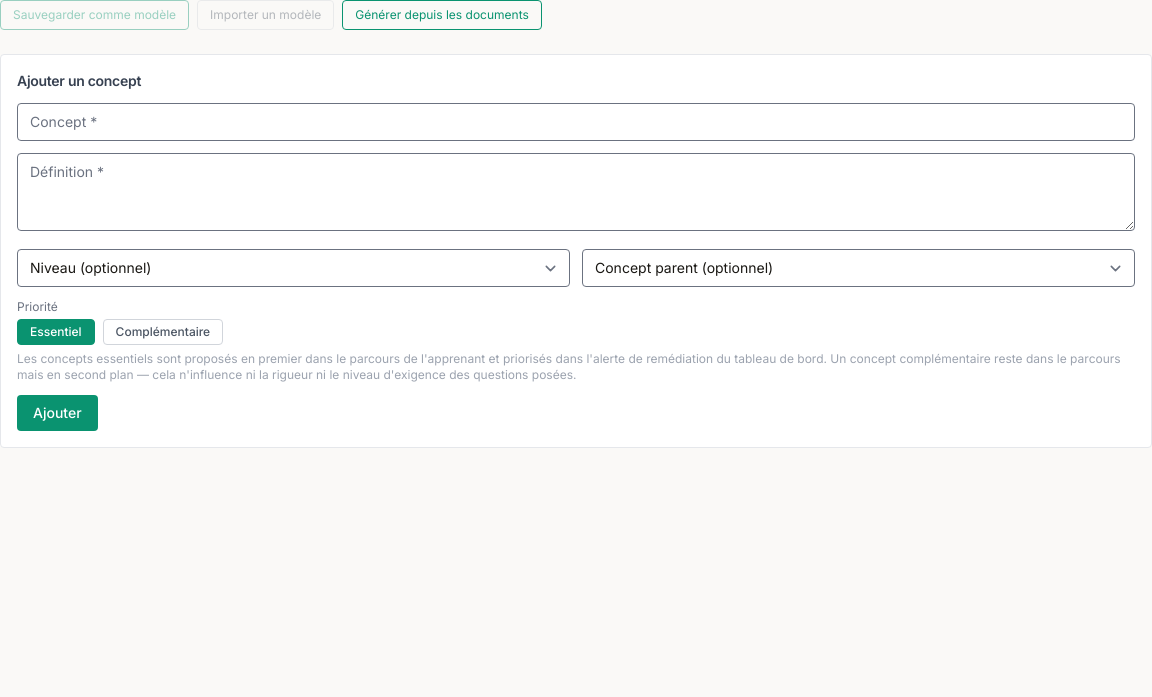
it: Curriculum — génération › "Annuler" ferme le panneau sans rien insérer
What coordinates should you click on to do the following:
click the button "Générer depuis les documents"
I would click on:
 (442, 15)
Its box is [342, 0, 542, 30].
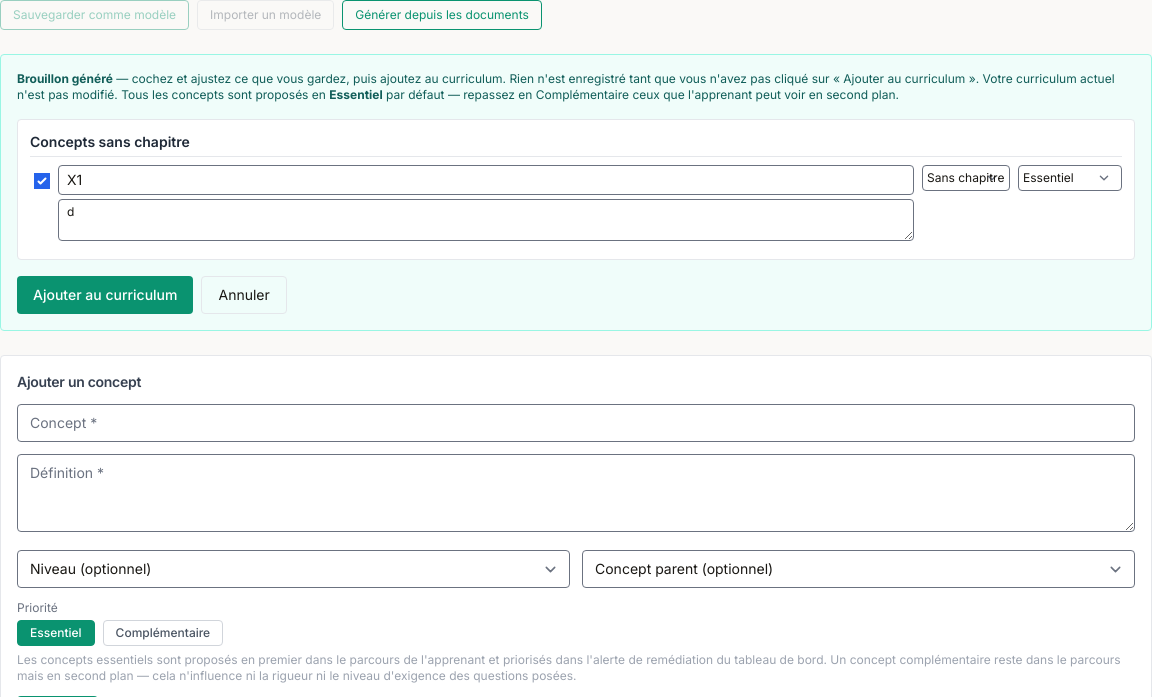
Expected: the text "Brouillon généré" is shown, [17, 71, 113, 86]
What coordinates should you click on to do the following:
click the button "Annuler"
I would click on:
 (244, 295)
Its box is [202, 276, 287, 314].
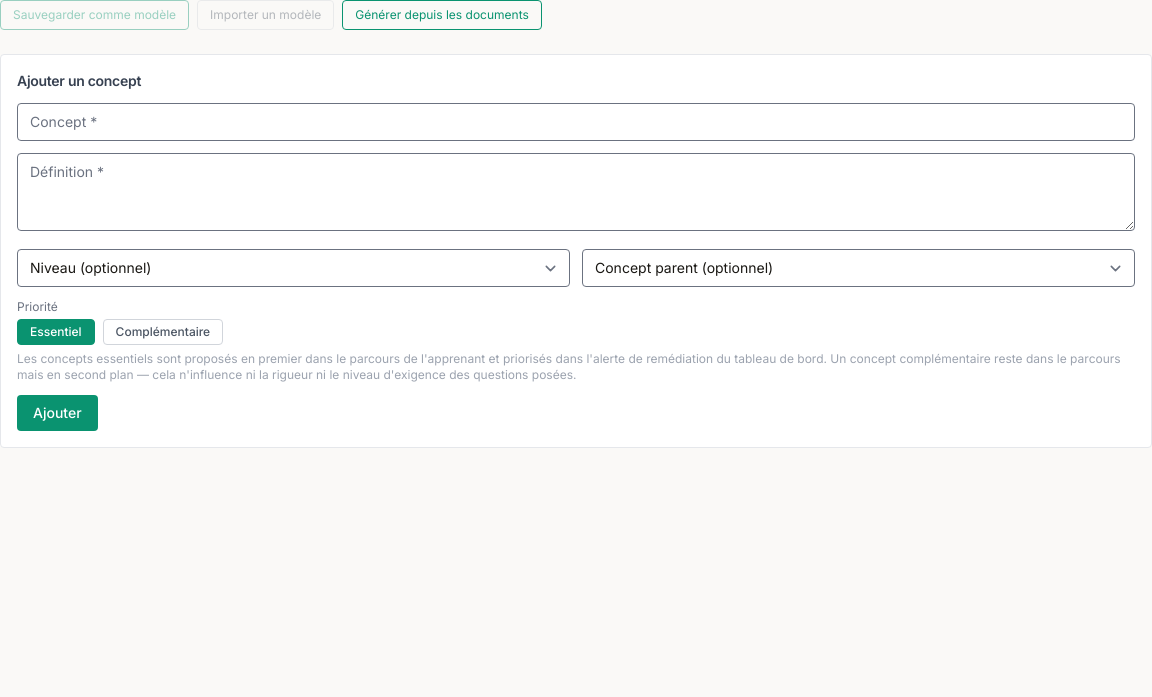
Expected: the text "Brouillon généré" is gone
